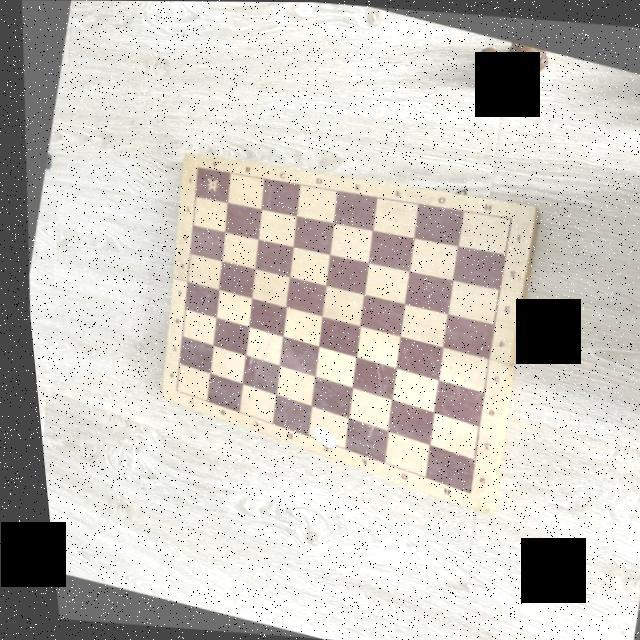chess-table-corners: (186, 160, 202, 171), (499, 212, 513, 222), (164, 384, 174, 392), (456, 487, 464, 494)
